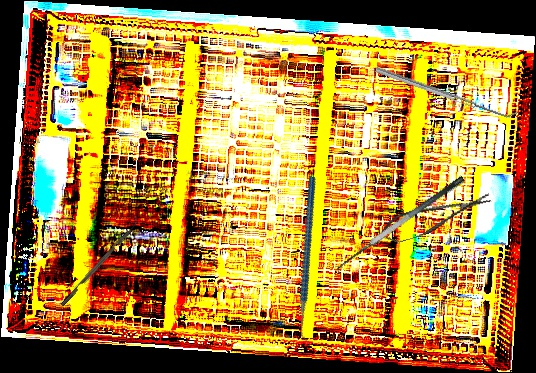Chopper: (248, 175, 373, 347), (55, 215, 143, 307)
Micro Scissor: (375, 187, 496, 248)
Spatula Surgical: (331, 174, 473, 280), (375, 61, 518, 123)
